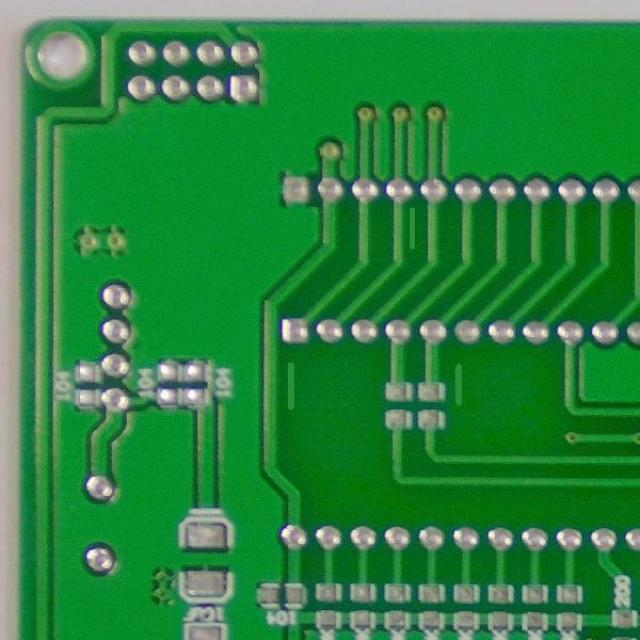spurious_copper: (279, 356, 300, 414), (402, 205, 421, 257), (450, 360, 468, 410)
